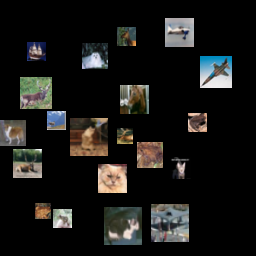airplane: (151, 204, 189, 242), (200, 56, 232, 88), (165, 18, 194, 47)
bird: (47, 111, 66, 130)
cat: (70, 118, 108, 156), (104, 207, 142, 245), (98, 164, 127, 193), (169, 157, 191, 179)
deer: (20, 77, 52, 109), (13, 149, 42, 178), (117, 27, 136, 46), (117, 128, 133, 144)
dog: (82, 43, 108, 69), (0, 120, 26, 146)
frog: (137, 142, 163, 168), (53, 209, 72, 228), (188, 113, 207, 132), (35, 203, 51, 219)
ship: (27, 42, 46, 61)
